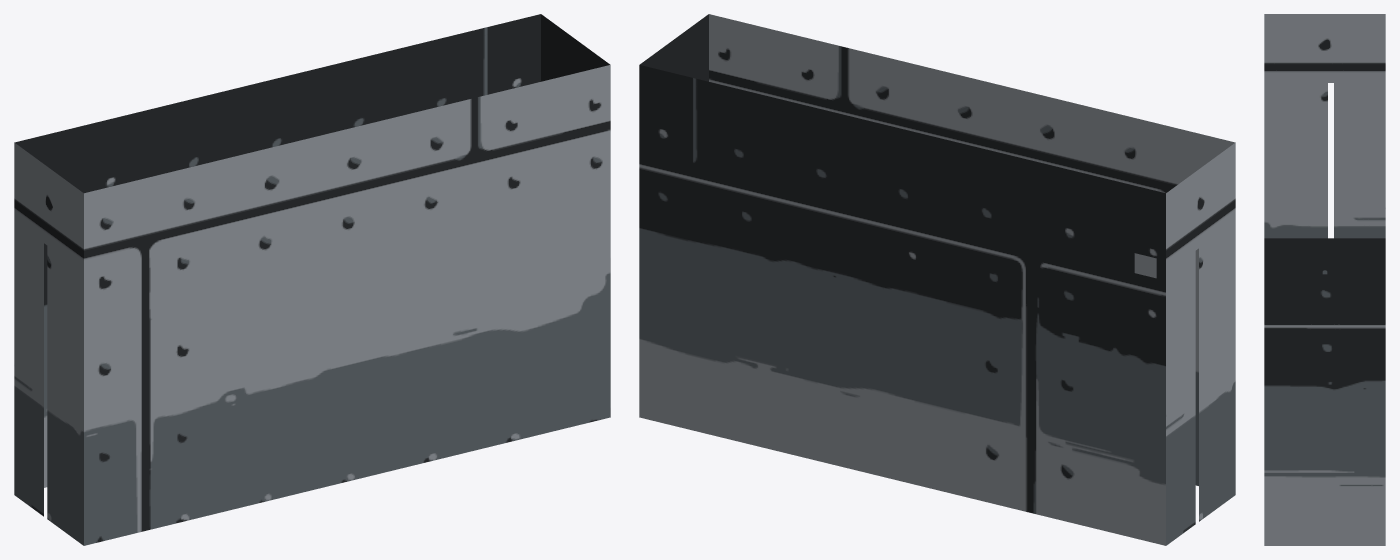
The model's file is Tijdelijkmuur.fbx.
The picture shows the model from 3 angles, left to right: view 1: azimuth 30°, elevation 25°; view 2: azimuth 150°, elevation 25°; view 3: azimuth 270°, elevation 25°; orthographic projection. The views are drawn at different scales.
Visible parts, largest first — view 1: Stairs__1_.019; view 2: Stairs__1_.019; view 3: Stairs__1_.019.
Part boxes in pixels (box(x1,y1,x2,y2)): Stairs__1_.019: box(14, 14, 610, 545); Stairs__1_.019: box(639, 14, 1235, 545); Stairs__1_.019: box(1264, 14, 1385, 545).
Size of the model in its own units: 911 by 583 by 208.
1 material, 1 textured.
